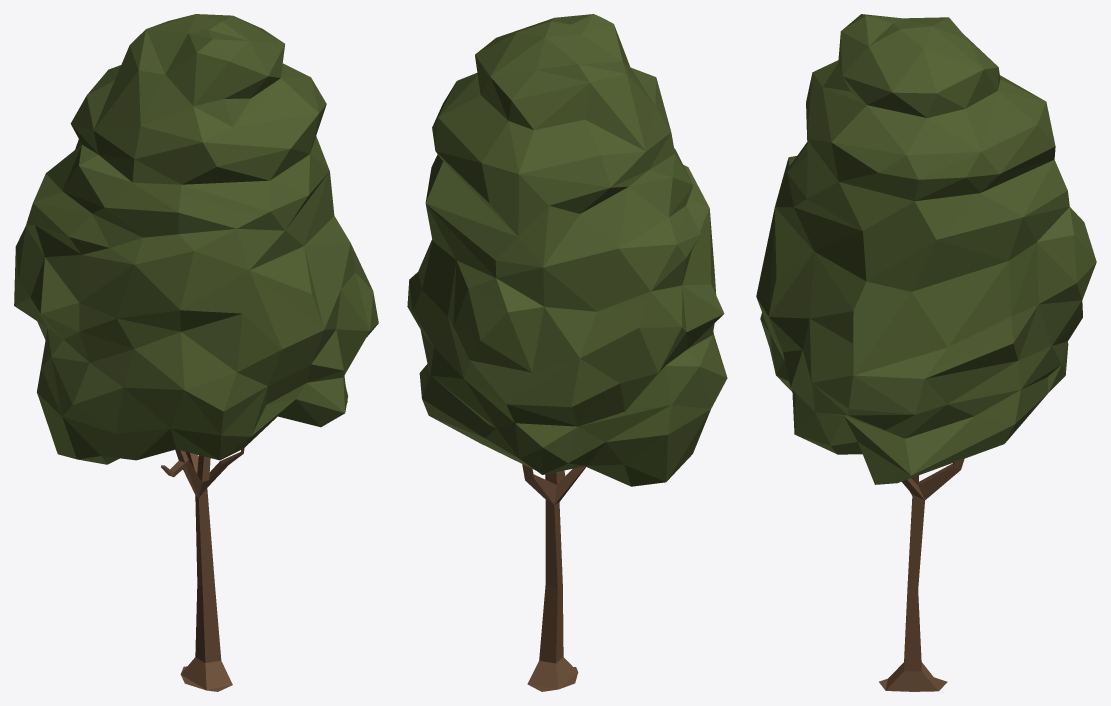
The model's file is delh_foli_04_03.fbx.
3 renders of one model, left to right at view 1: azimuth 30°, elevation 25°; view 2: azimuth 150°, elevation 25°; view 3: azimuth 270°, elevation 25°, orthographic.
Visible parts, largest first — view 1: delh_foli_04_03; view 2: delh_foli_04_03; view 3: delh_foli_04_03.
Boxes of the visible parts, x1,y1,x2,y2 form: delh_foli_04_03: (14, 14, 378, 691); delh_foli_04_03: (407, 14, 727, 691); delh_foli_04_03: (756, 14, 1096, 691).
Bounding box in the file's own units: 289 × 575 × 269.
